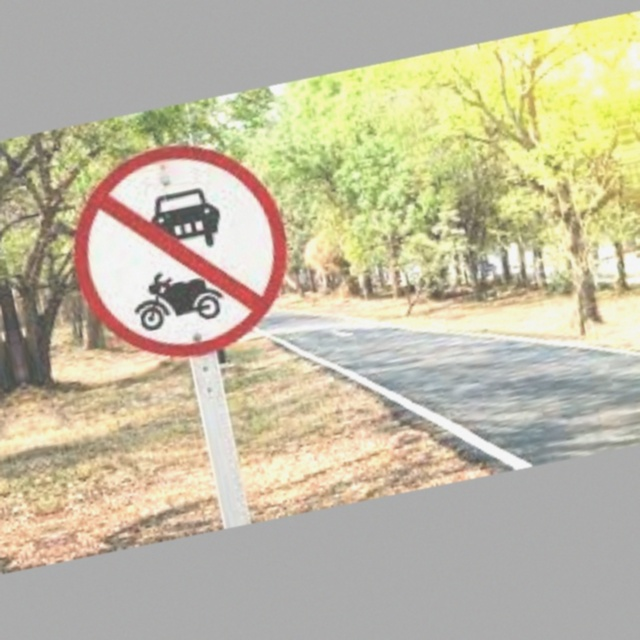All_Motor_Vehicles_Prohibited: (60, 128, 301, 369)
